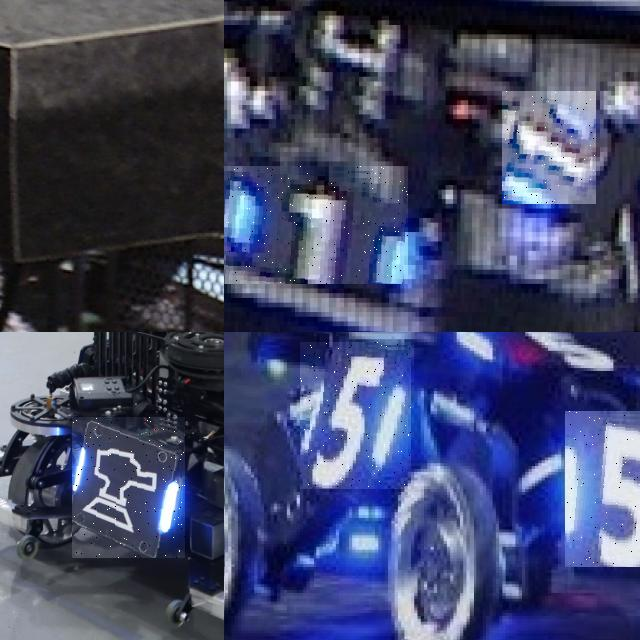B1: (224, 166, 407, 283), (502, 91, 596, 204)
B5: (300, 342, 411, 489), (564, 411, 640, 566)
Bs: (72, 417, 185, 558)
